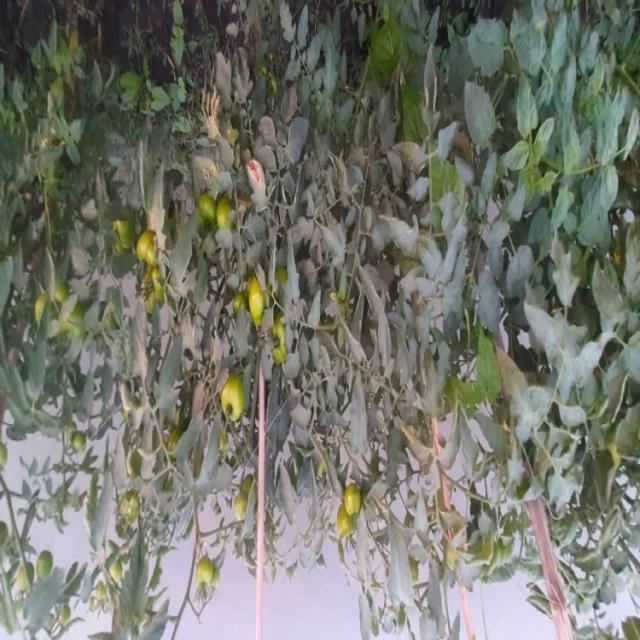tomato: (211, 377, 265, 435), (208, 190, 245, 238), (238, 280, 270, 332), (259, 328, 303, 364), (337, 485, 373, 525), (35, 553, 69, 588), (330, 505, 359, 545), (10, 561, 36, 601), (131, 234, 163, 263), (192, 558, 222, 588), (119, 500, 147, 531), (228, 483, 252, 518), (197, 198, 221, 232)
